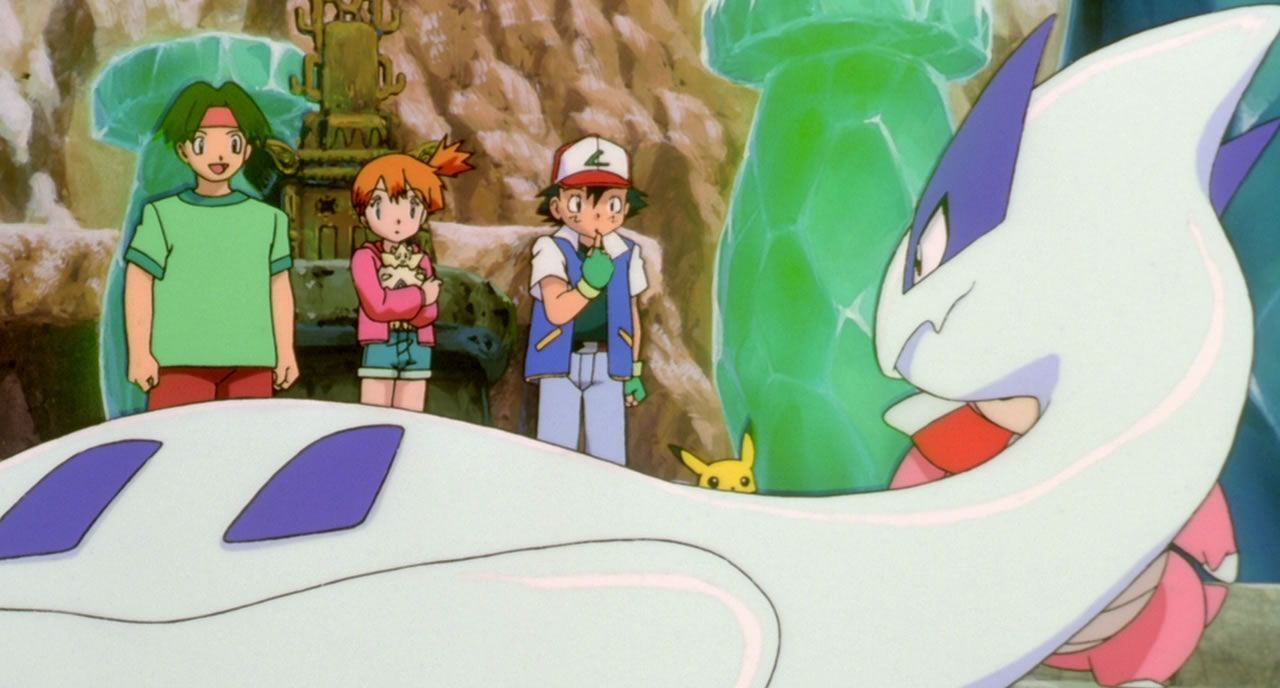lugia: (866, 7, 1280, 573)
